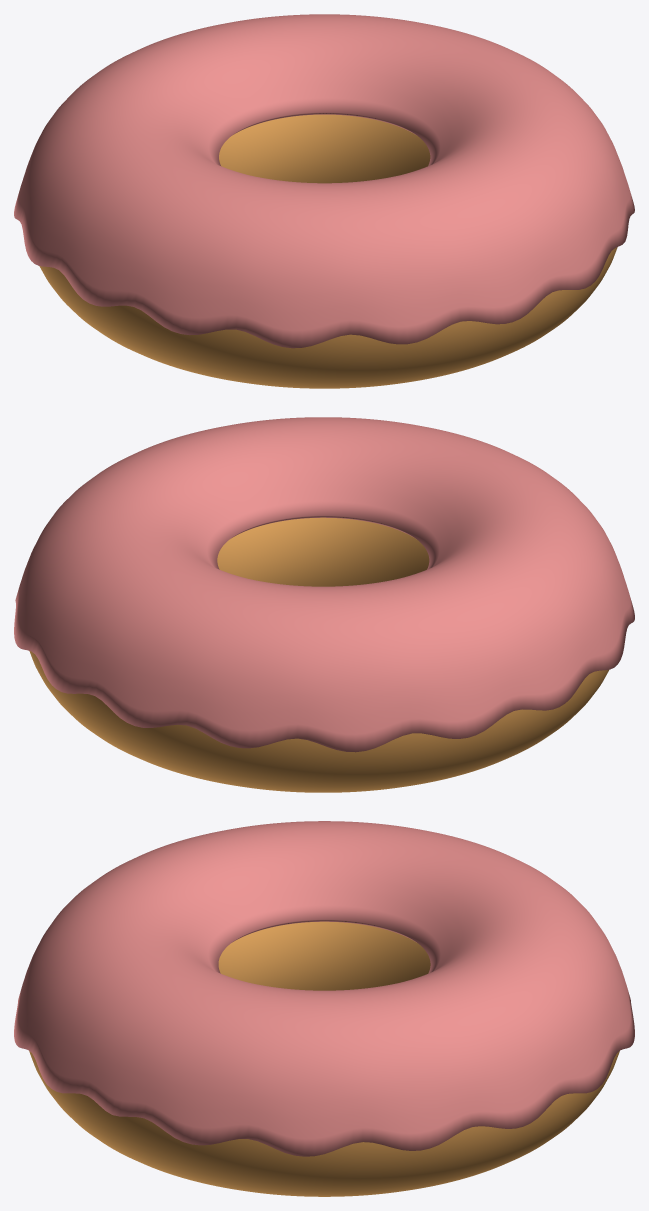
The model's file is StrawberryDonut.fbx.
The picture shows the model from 3 angles, top to bottom: view 1: azimuth 30°, elevation 25°; view 2: azimuth 150°, elevation 25°; view 3: azimuth 270°, elevation 25°; orthographic projection.
Parts seen in each view (by area): view 1: StrawberryDonut-Glaze, StrawberryDonut; view 2: StrawberryDonut-Glaze, StrawberryDonut; view 3: StrawberryDonut-Glaze, StrawberryDonut.
Part boxes in pixels (left/top/right/bottom): StrawberryDonut-Glaze: left=14, top=14, right=634, bottom=348; StrawberryDonut: left=39, top=114, right=617, bottom=388; StrawberryDonut-Glaze: left=14, top=417, right=634, bottom=752; StrawberryDonut: left=29, top=517, right=608, bottom=792; StrawberryDonut-Glaze: left=14, top=821, right=634, bottom=1156; StrawberryDonut: left=29, top=921, right=619, bottom=1196.
Size of the model in its own units: 96.09 by 32.11 by 96.19.
